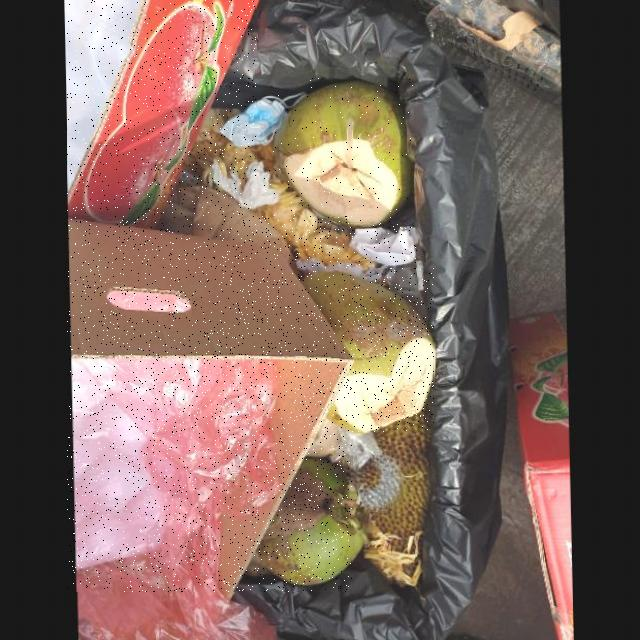biowaste: (301, 268, 434, 432), (273, 76, 413, 226), (338, 404, 428, 582), (254, 455, 366, 584), (256, 169, 375, 270)
paper: (68, 216, 352, 592), (68, 0, 256, 226), (349, 224, 417, 263)
